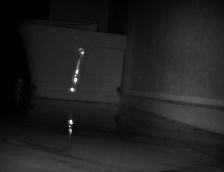toilet: (16, 15, 126, 103)
